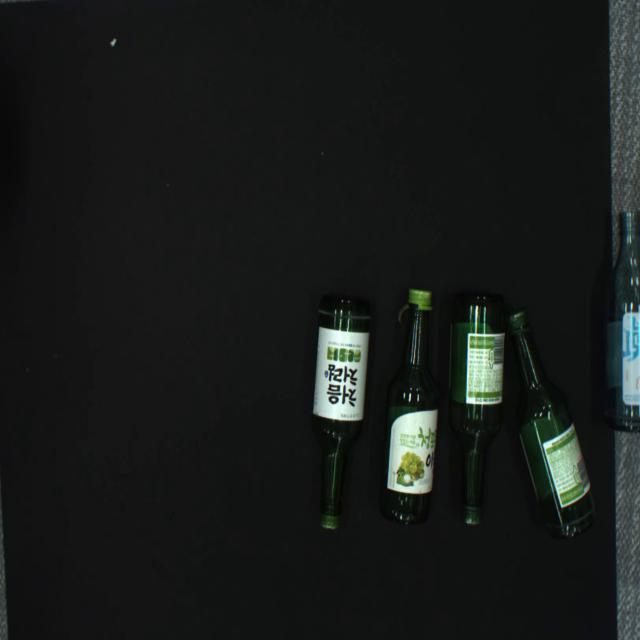soju-bottle: (506, 309, 597, 539), (379, 289, 441, 525), (311, 295, 372, 529), (448, 293, 506, 525), (602, 211, 640, 433)
